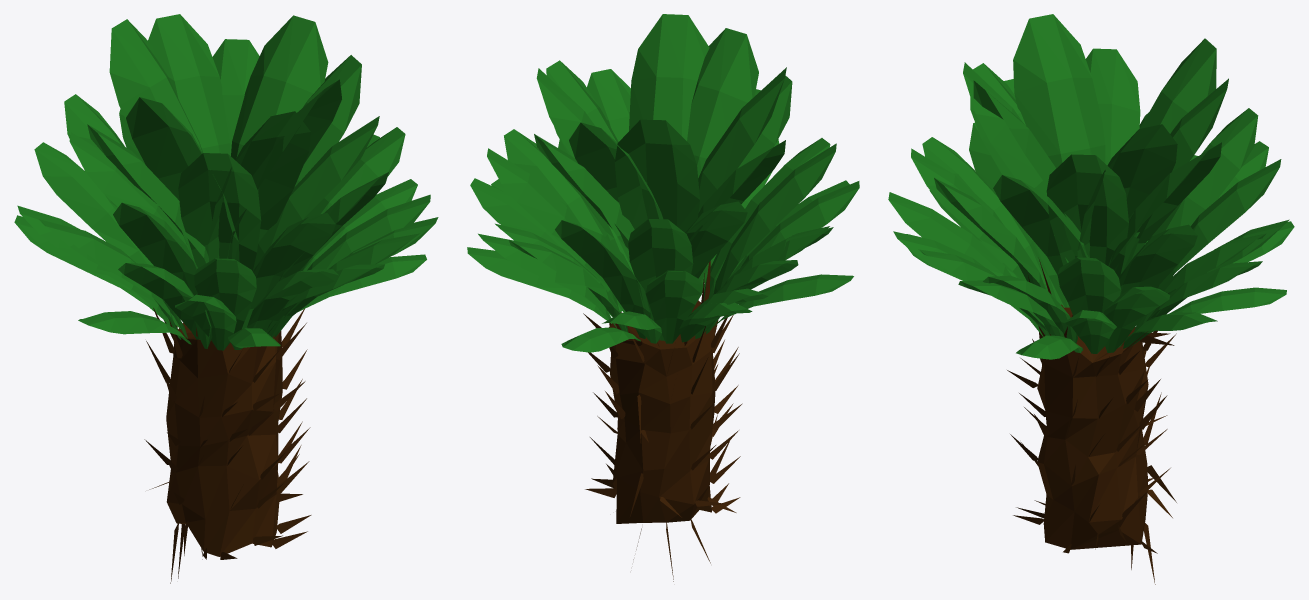
The model's file is Short_Palm_SC.fbx.
The picture shows the model from 3 angles, left to right: view 1: azimuth 30°, elevation 25°; view 2: azimuth 150°, elevation 25°; view 3: azimuth 270°, elevation 25°; orthographic projection. The views are drawn at different scales.
Visible parts, largest first — view 1: grid1; view 2: grid1; view 3: grid1.
Part boxes in pixels (x1,y1,x2,y2): grid1: [14, 14, 438, 583]; grid1: [467, 14, 859, 581]; grid1: [888, 14, 1294, 584].
Bounding box in the file's own units: 39.25 × 54.95 × 38.66.
